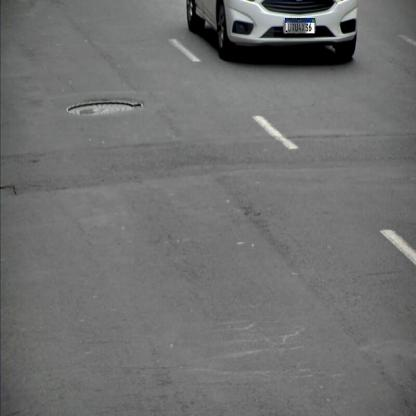PlacaM: (285, 18, 315, 34)
